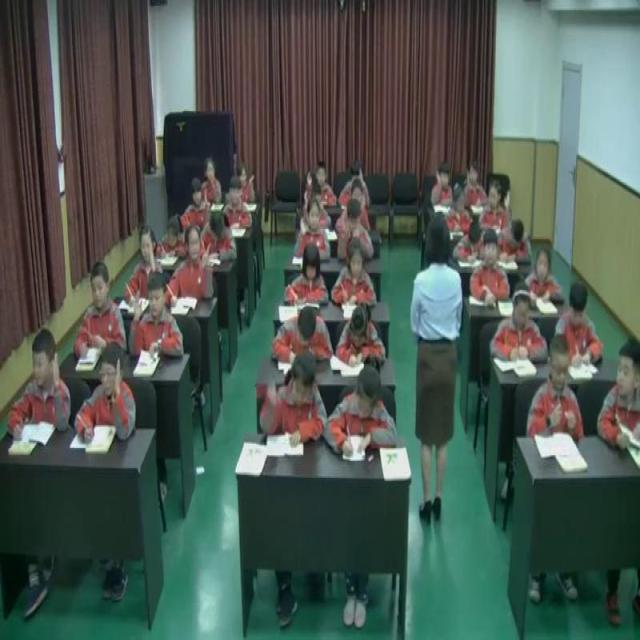distracted: (596, 337, 640, 452)
focused: (328, 360, 398, 456), (529, 344, 585, 442), (76, 263, 126, 364), (491, 289, 552, 364), (267, 308, 334, 369), (333, 302, 386, 378), (552, 287, 602, 367), (332, 232, 379, 308), (282, 246, 330, 312), (473, 228, 510, 300), (527, 241, 567, 307), (203, 212, 238, 266), (499, 214, 535, 266), (220, 178, 251, 230), (458, 220, 493, 265), (156, 214, 186, 258), (202, 158, 225, 208)
raising_hand: (4, 328, 72, 449), (258, 353, 327, 452), (78, 338, 136, 452), (128, 270, 186, 362), (126, 228, 169, 306), (168, 222, 208, 303), (293, 194, 332, 266), (336, 197, 377, 260), (441, 181, 474, 241), (181, 174, 209, 233), (304, 157, 338, 205), (459, 154, 488, 208), (484, 181, 513, 233), (431, 160, 459, 212), (338, 156, 370, 201), (236, 158, 259, 203)
